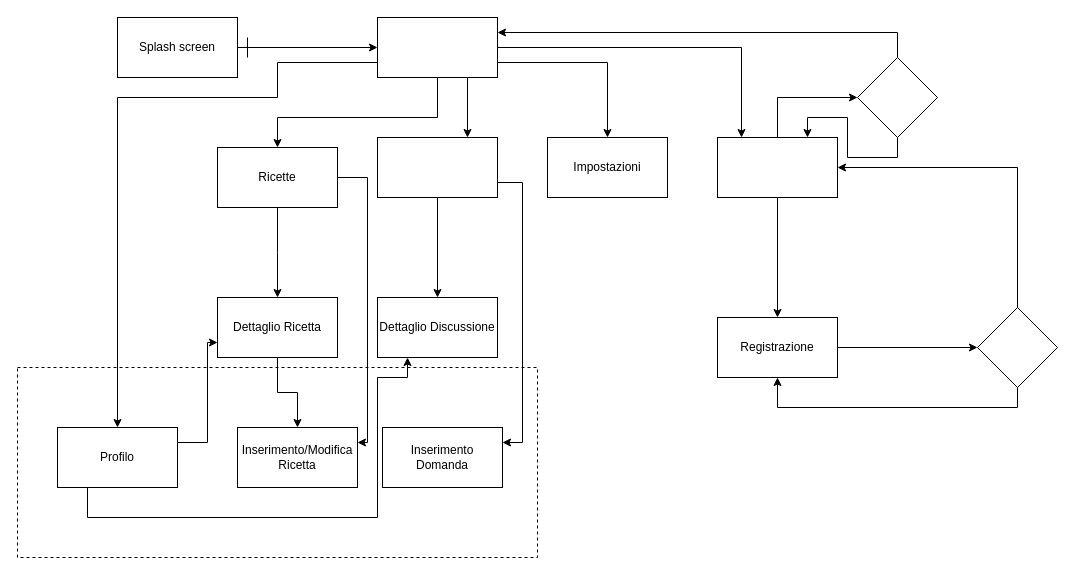
Some shapes in this 1075 by 575 pixel diagram are drawn without their labels. Each missing label, with the box of its shape:
Dopo Login: (16, 366, 538, 558)
Forum: (376, 136, 498, 198)
Home: (376, 16, 498, 78)
Login: (716, 136, 838, 198)
